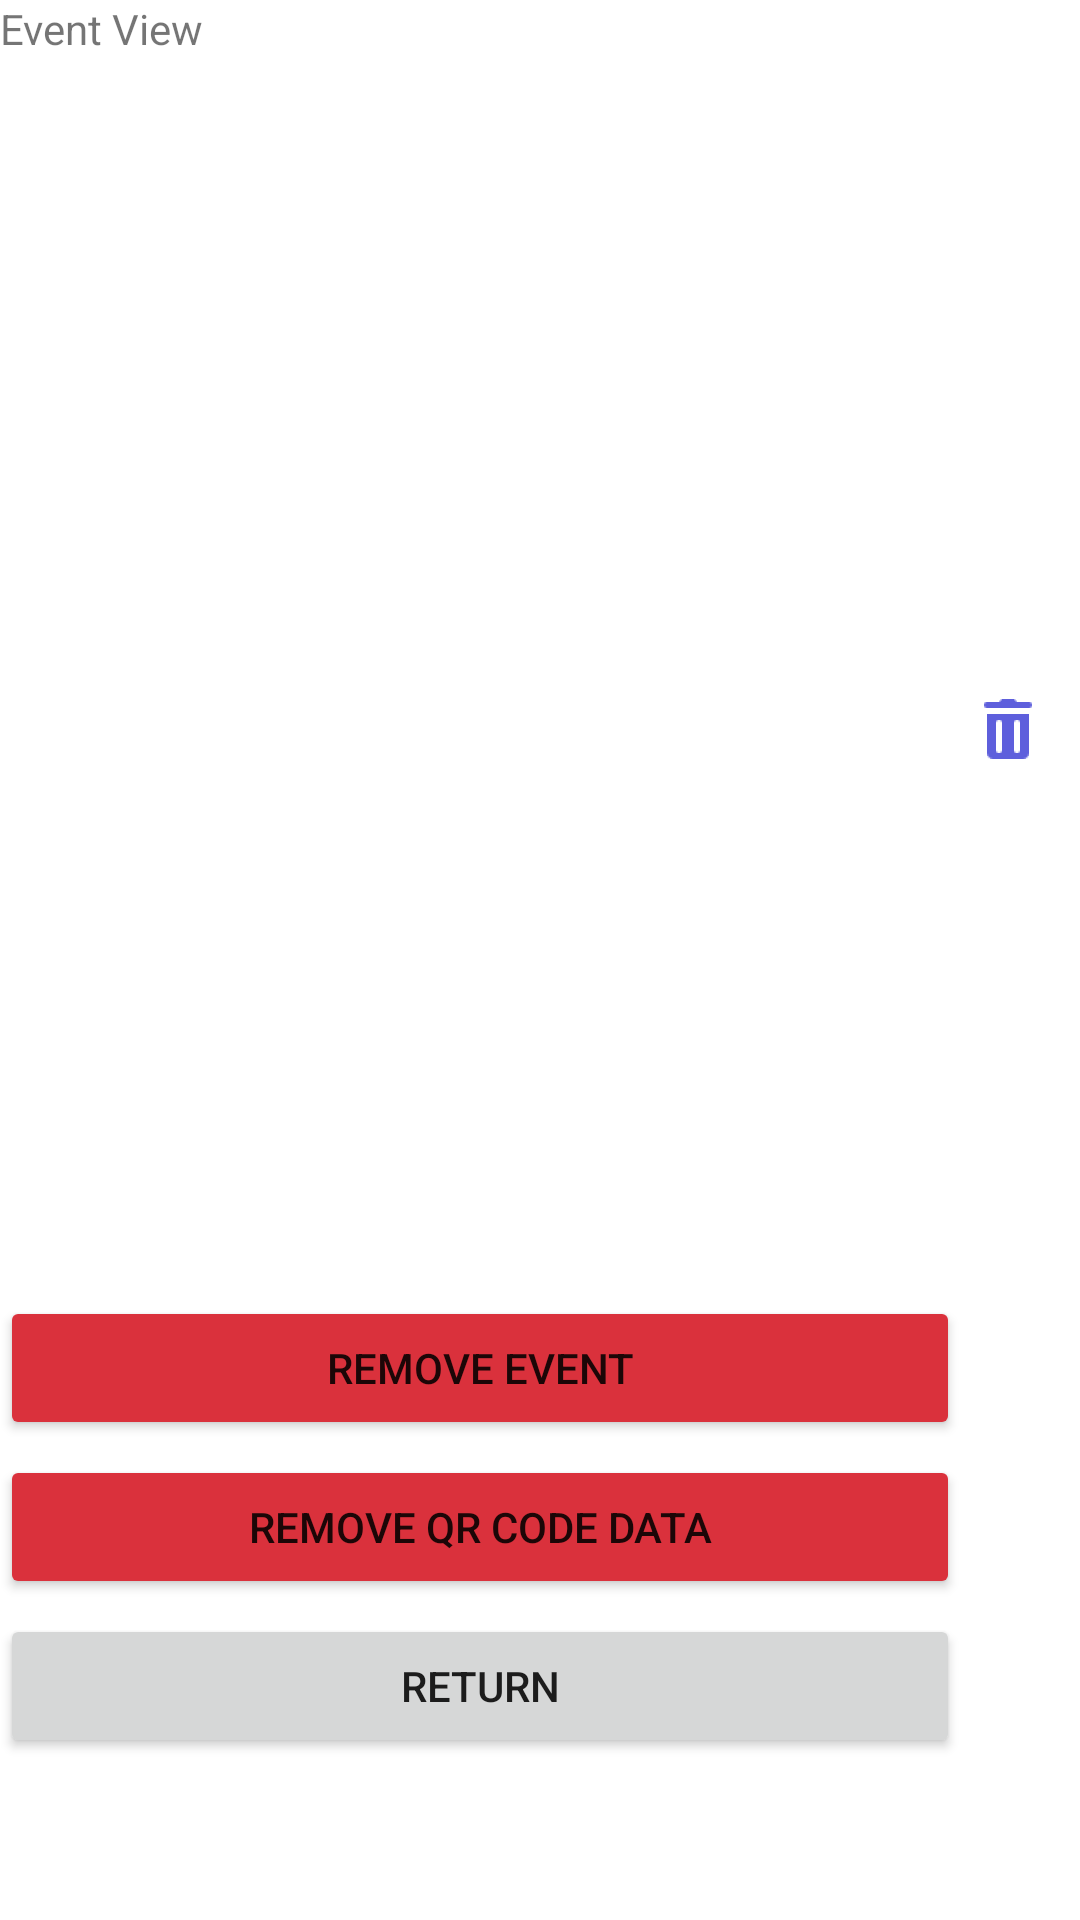

Screen size 1080x1920. Icon name, then its center in pixels as [x,y]:
trash: [1008,729]
